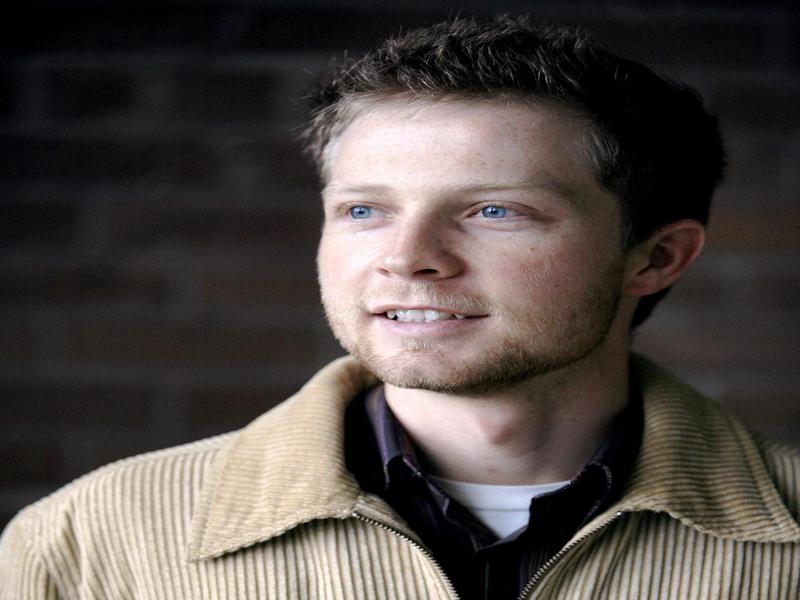person: (10, 20, 794, 600)
